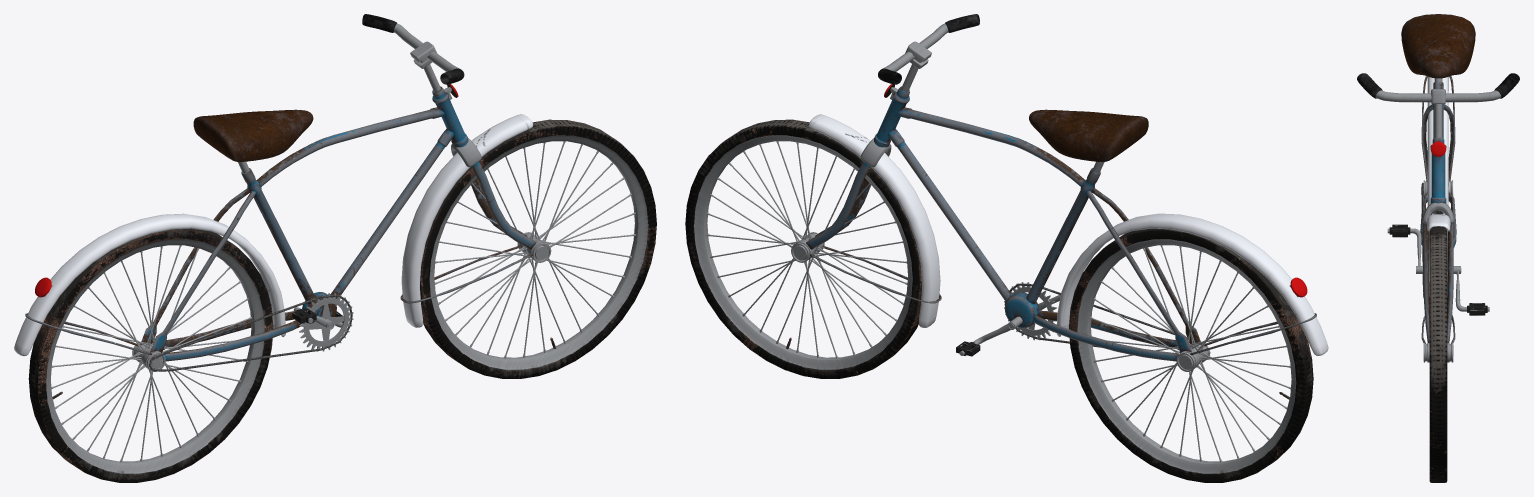
The model's file is bycicle_materials.fbx.
3 renders of one model, left to right at view 1: azimuth 30°, elevation 25°; view 2: azimuth 150°, elevation 25°; view 3: azimuth 270°, elevation 25°, orthographic. The views are drawn at different scales.
Visible parts, largest first — view 1: Circle.002; view 2: Circle.002; view 3: Circle.002.
Boxes of the visible parts, x1,y1,x2,y2 form: Circle.002: [14, 14, 656, 482]; Circle.002: [685, 14, 1328, 482]; Circle.002: [1357, 14, 1519, 482].
Bounding box in the file's own units: 2037 × 1136 × 481.
1 material, 1 textured.
